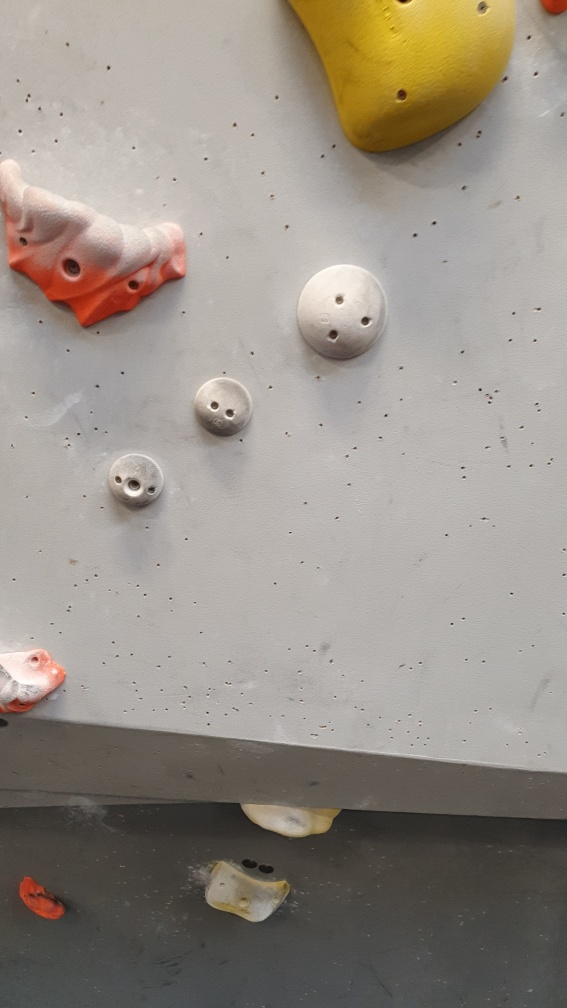Hand Start: (239, 851, 263, 871), (256, 860, 278, 878)
Jug: (1, 153, 194, 337), (17, 871, 69, 926)
Sloper: (294, 260, 392, 366), (190, 374, 258, 442), (105, 445, 169, 512)
